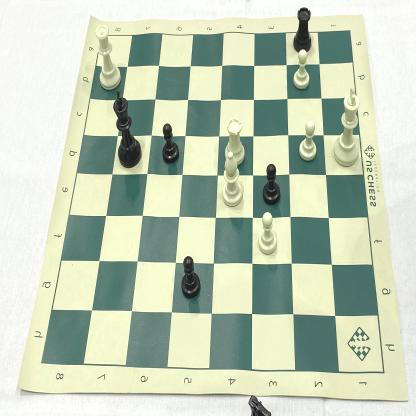bishop: (110, 86, 146, 172)
black-pawn: (158, 119, 182, 167), (179, 252, 201, 301), (260, 160, 283, 206)
black-rook: (291, 2, 315, 56)
white-bishop: (219, 150, 244, 212)
white-king: (330, 83, 364, 171)
white-pawn: (255, 209, 281, 257), (289, 44, 313, 92), (297, 115, 320, 165)
white-queen: (92, 22, 126, 94)
white-rook: (219, 113, 249, 170)
